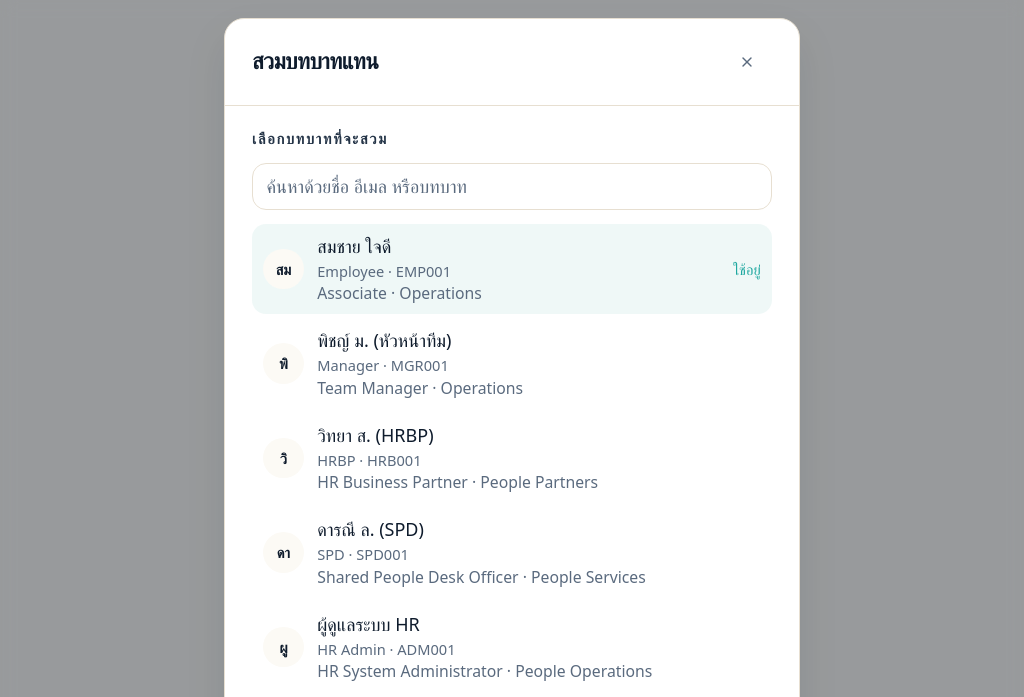
PersonaSwitcher — SF realignment › AC4: search filter matches by role label (HRBP)
Type "HRBP" into the search field with placeholder "ค้นหาด้วยชื่อ อีเมล หรือบทบาท".
click(512, 187); type("HRBP")  # box [252, 163, 772, 210]
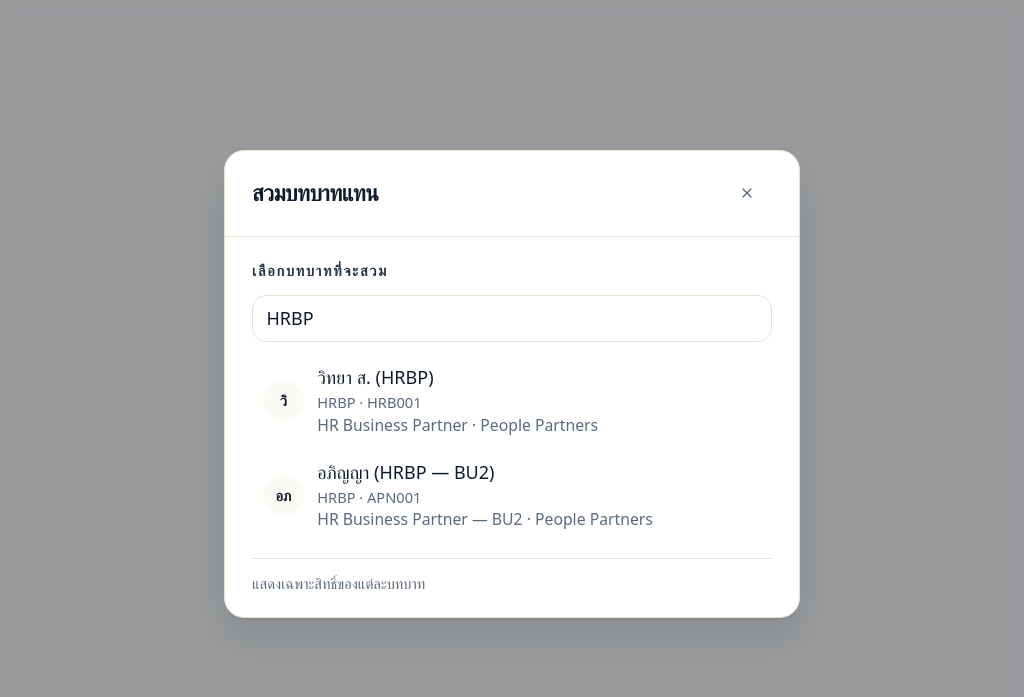
Expected: the text "วิทยา ส. (HRBP)" is shown, [317, 366, 434, 390]
Now the text "อภิญญา (HRBP — BU2)" is shown, box [317, 460, 494, 484]
